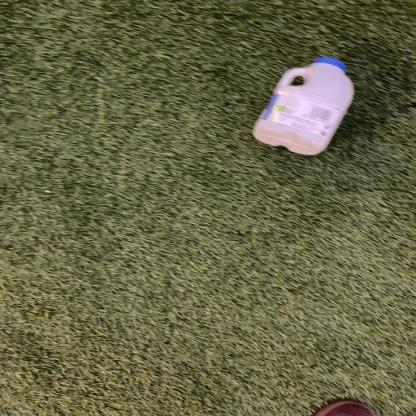trash: (246, 56, 358, 160)
